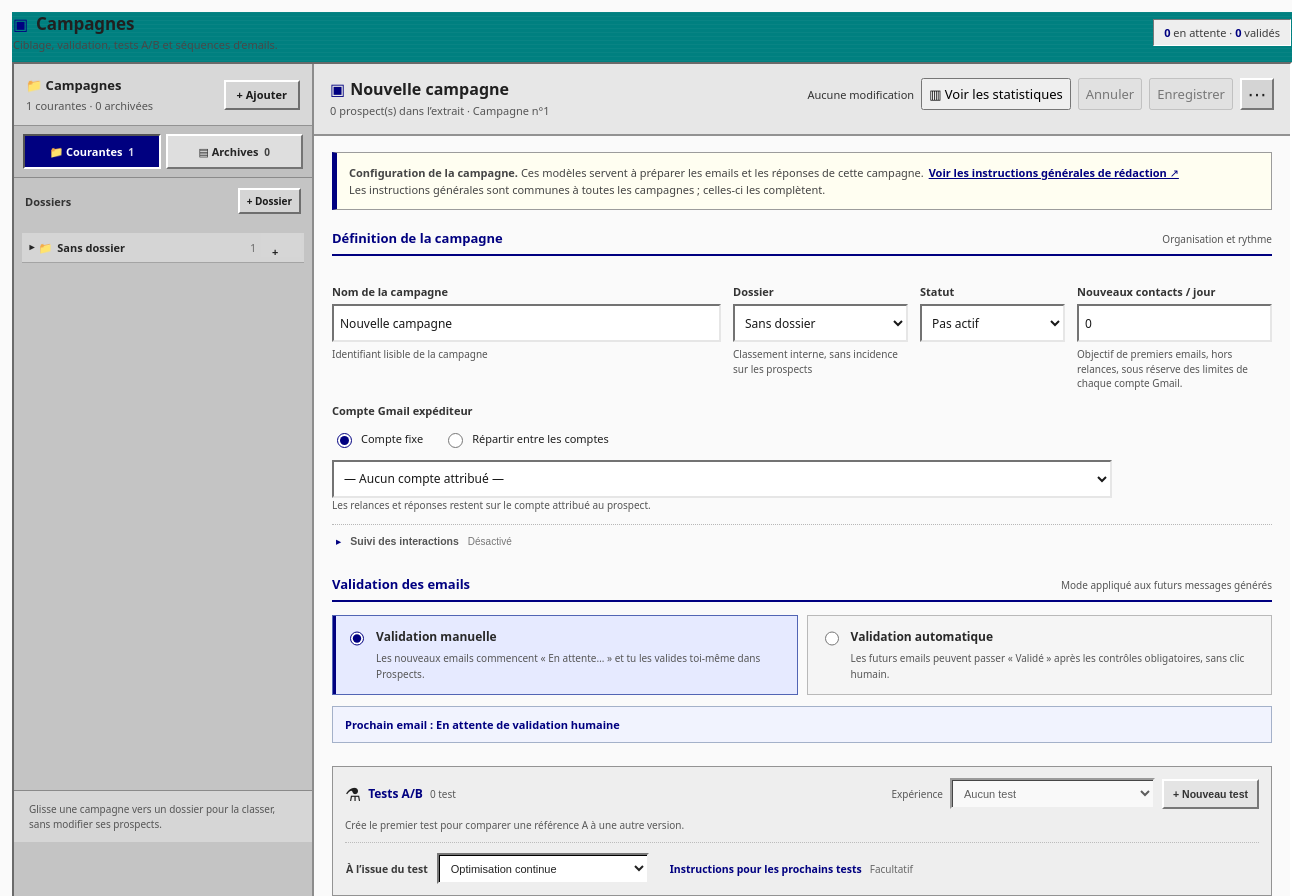
Test: CampaignsView V53 › shows creation errors and allows retrying instead of failing silently
The width and height of the screenshot is (1292, 896).
Click the button "+ Ajouter" at coordinates (262, 94), box x1=224 y1=80 x2=300 y2=110
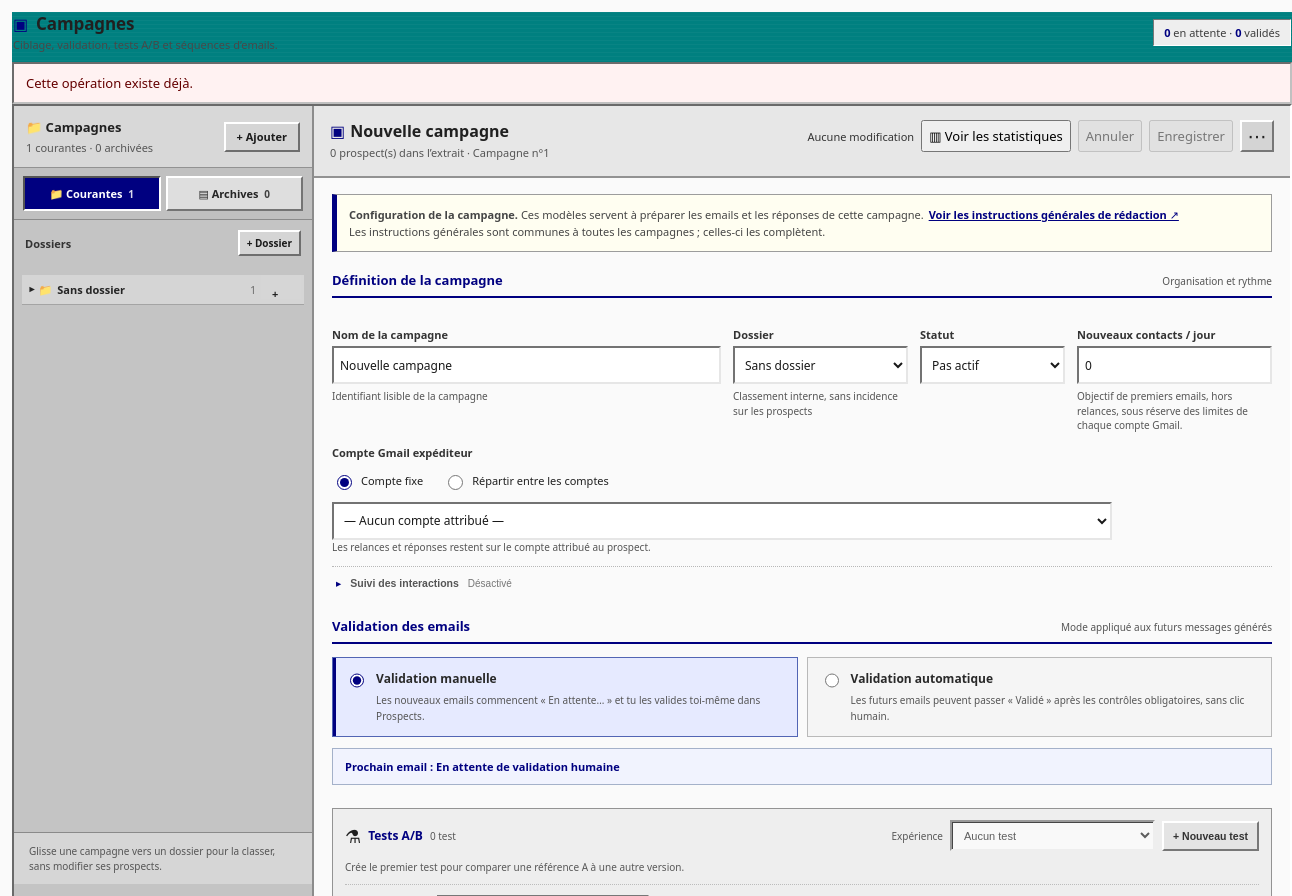
Expected: the message reads "Cette opération existe déjà.", x1=26 y1=74 x2=193 y2=92
Click the button "+ Ajouter" at coordinates (262, 137), box x1=224 y1=122 x2=300 y2=152
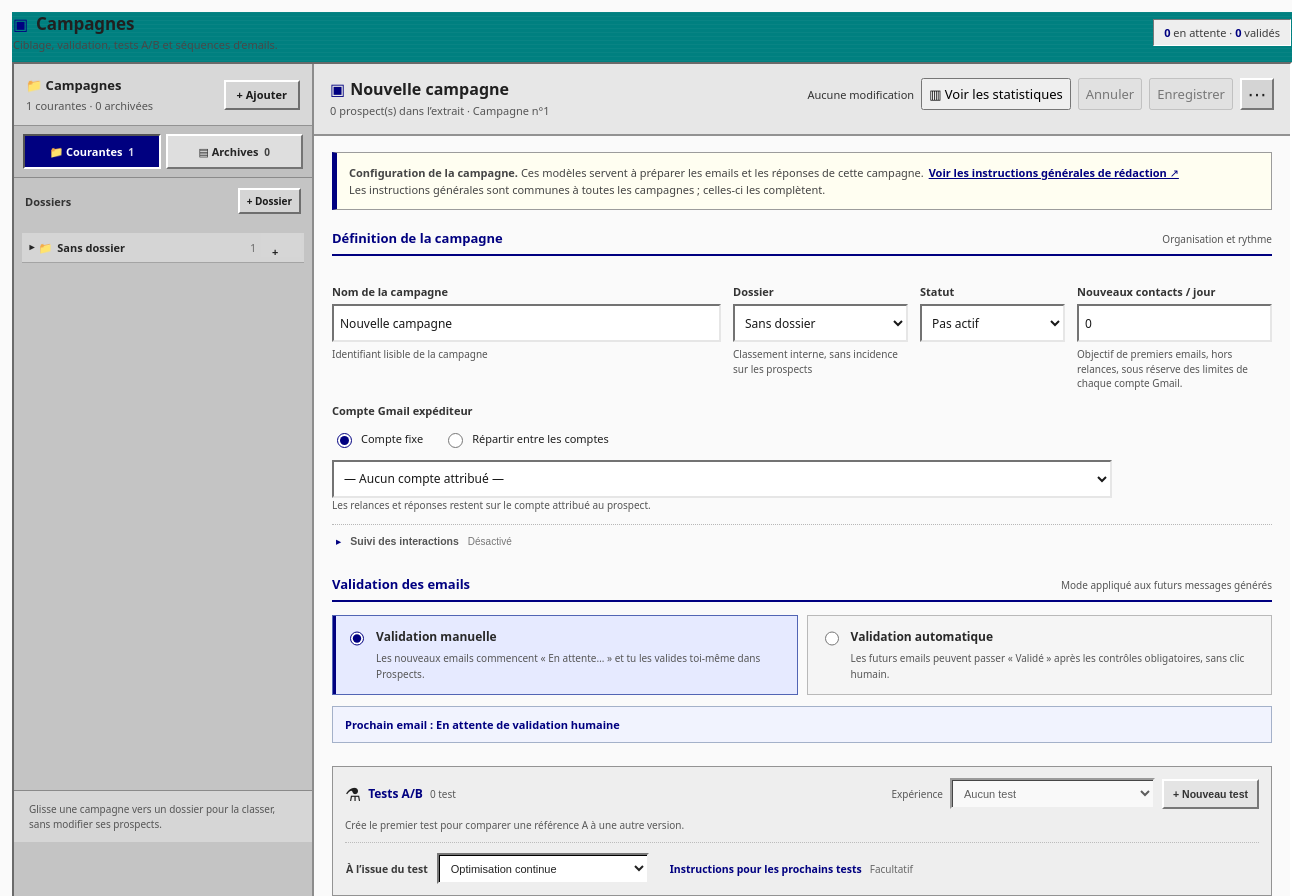
Expected: the message "Cette opération existe déjà." is gone
